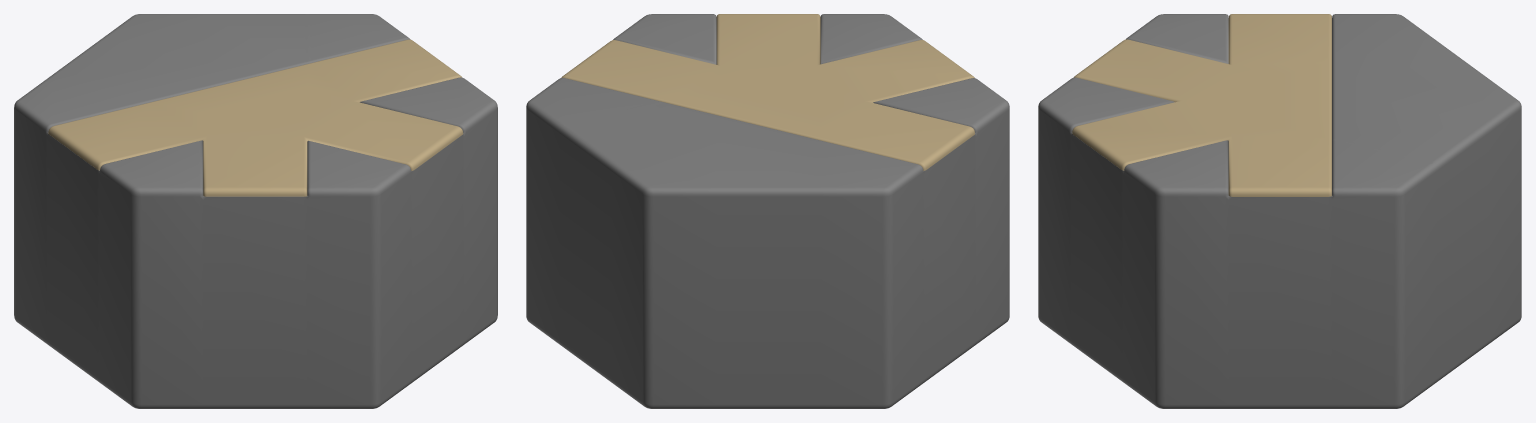
File: Road7.fbx
3 views of the same model, side by side, from view 1: azimuth 30°, elevation 25°; view 2: azimuth 150°, elevation 25°; view 3: azimuth 270°, elevation 25° (orthographic).
Parts seen in each view (by area): view 1: Cylinder039; view 2: Cylinder039; view 3: Cylinder039.
Part boxes in pixels (<box>): Cylinder039: <box>14,14,497,408</box>; Cylinder039: <box>526,14,1009,408</box>; Cylinder039: <box>1038,14,1521,408</box>.
Bounding box in the file's own units: 173 × 100 × 199.
